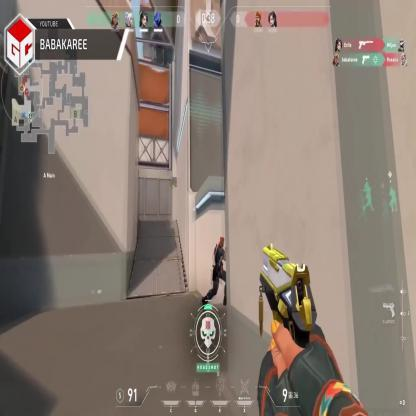enemy: (201, 233, 230, 308)
enemy_head: (219, 236, 224, 250)
